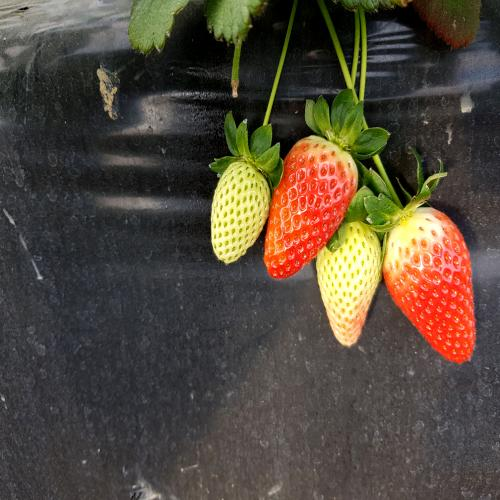ripe: (382, 191, 486, 384), (266, 108, 358, 293)
